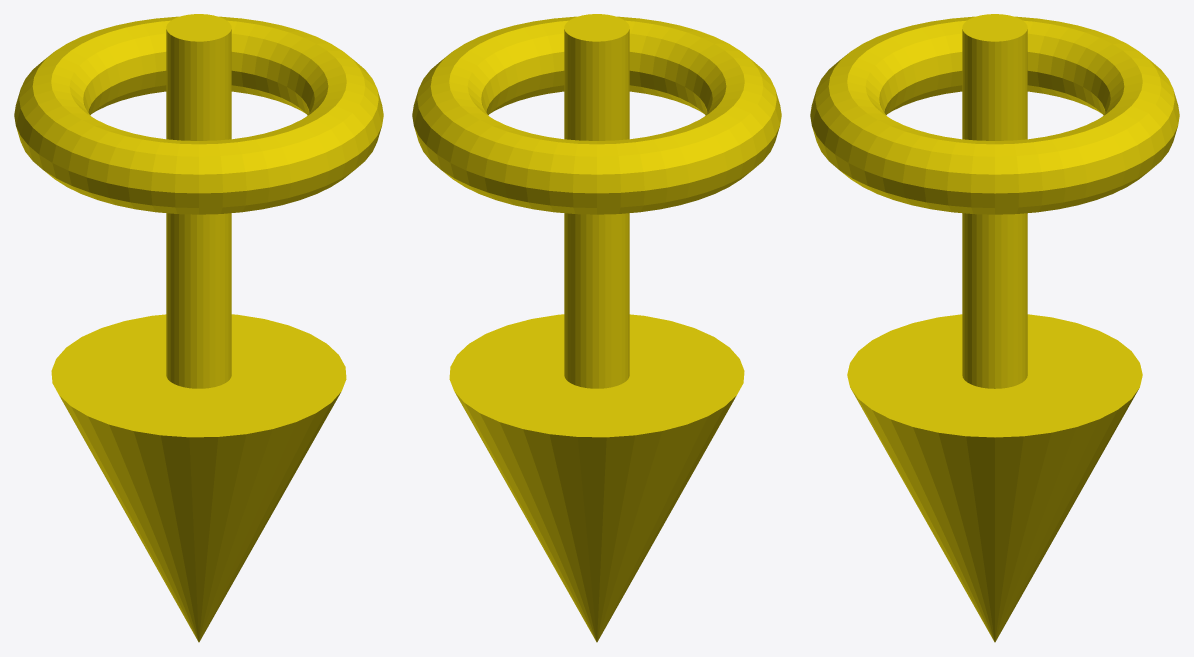
The model's file is light.glb.
3 views of the same model, side by side, from view 1: azimuth 30°, elevation 25°; view 2: azimuth 150°, elevation 25°; view 3: azimuth 270°, elevation 25° (orthographic).
Visible parts, largest first — view 1: Torus; view 2: Torus; view 3: Torus.
Boxes of the visible parts, x1,y1,x2,y2 form: Torus: [14, 14, 383, 642]; Torus: [412, 14, 781, 642]; Torus: [810, 14, 1179, 642].
Bounding box in the file's own units: 2.5 × 4.59 × 2.5.
